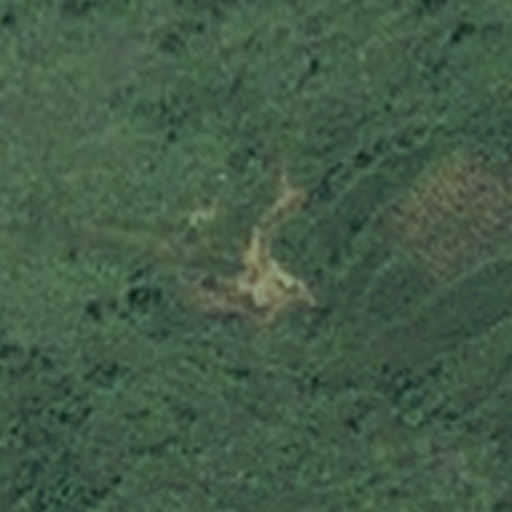landslide: (232, 190, 311, 327)
